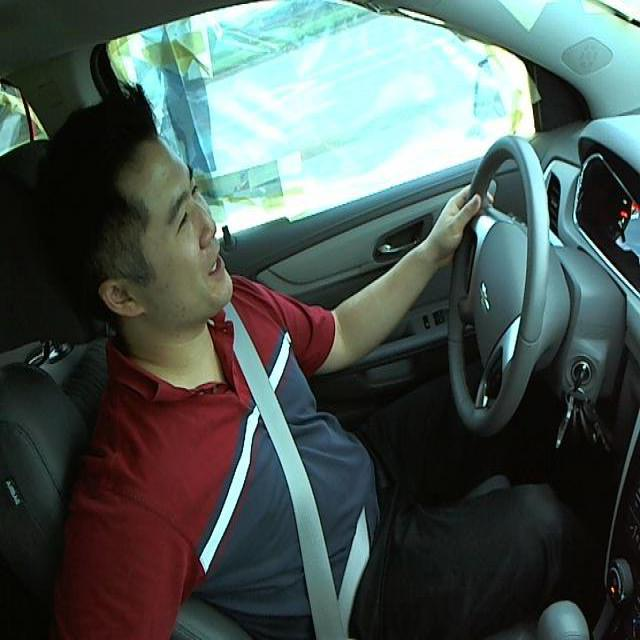seatbelt: (218, 325, 375, 628)
